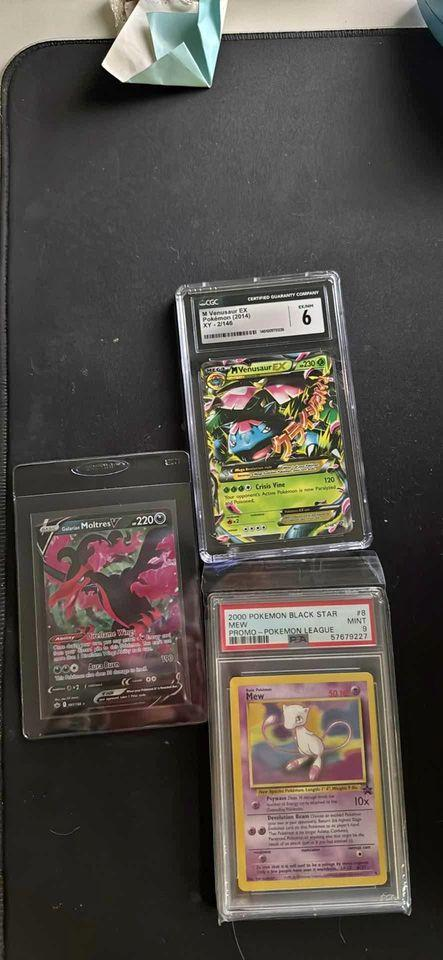card: (229, 671, 389, 892), (35, 508, 187, 716), (199, 348, 353, 546)
